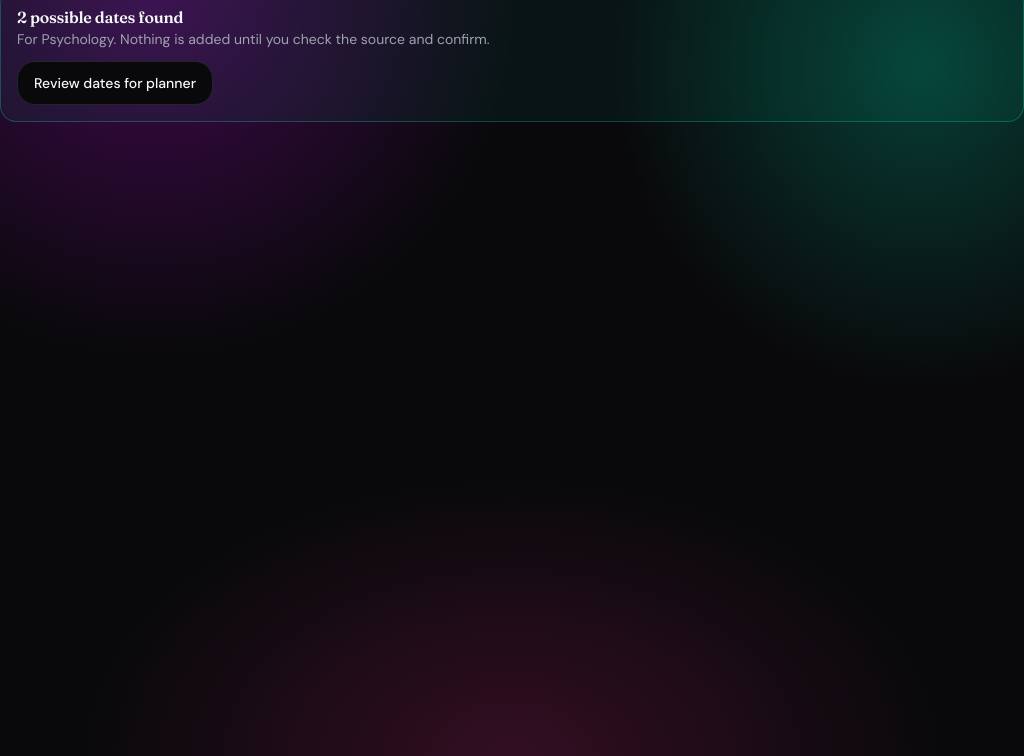
Test: planner confirmation UI › changing a checked date clears confirmation
Click the button "Review dates for planner" at coordinates (115, 83), box [17,61,213,105]
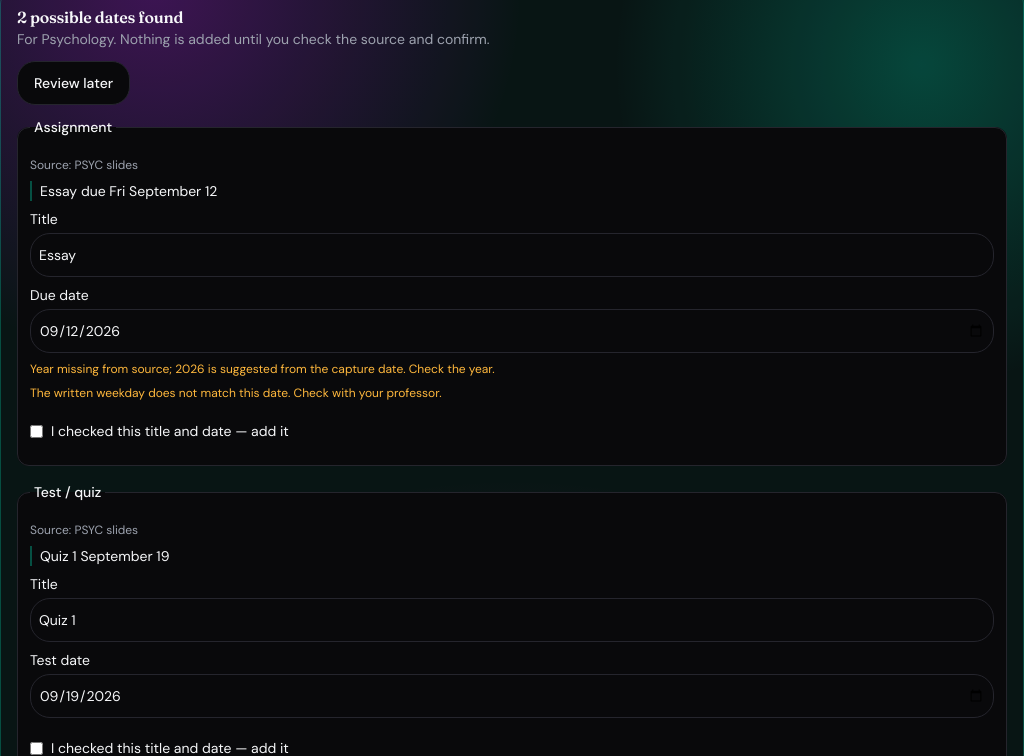
Click the checkbox labelled "I checked this title and date — add it" below "Due date" at coordinates (36, 431), box [30,424,43,438]
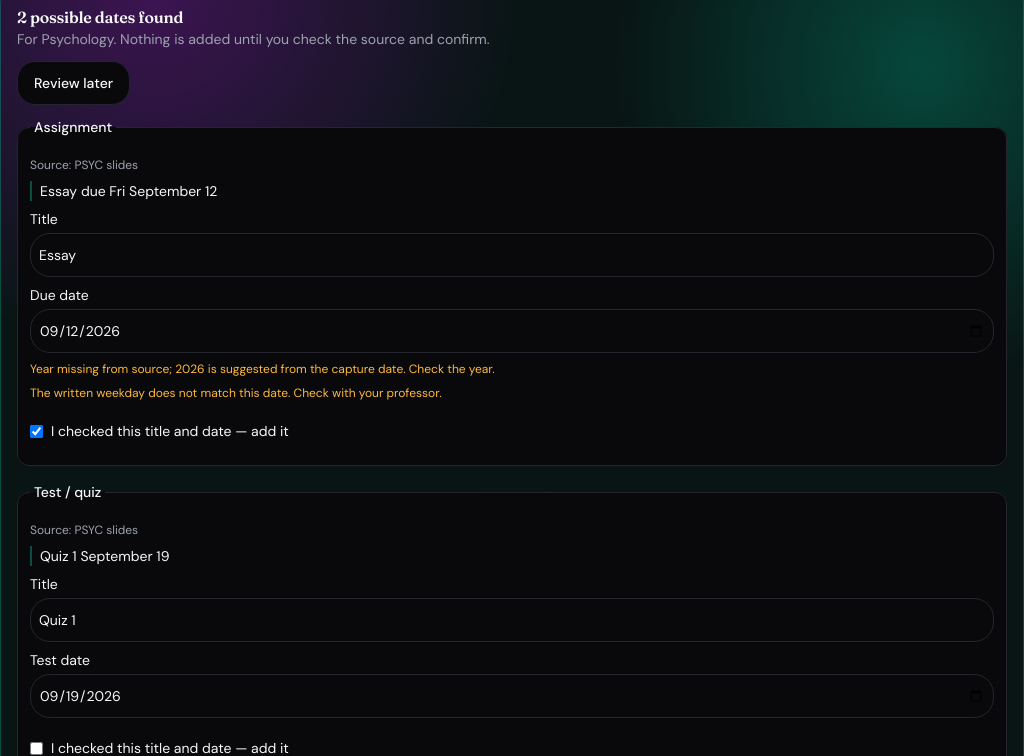
Type "2026-09-14" into the date field named "Date 1" at coordinates (512, 331), box [30,309,994,353]
(page scrolled)
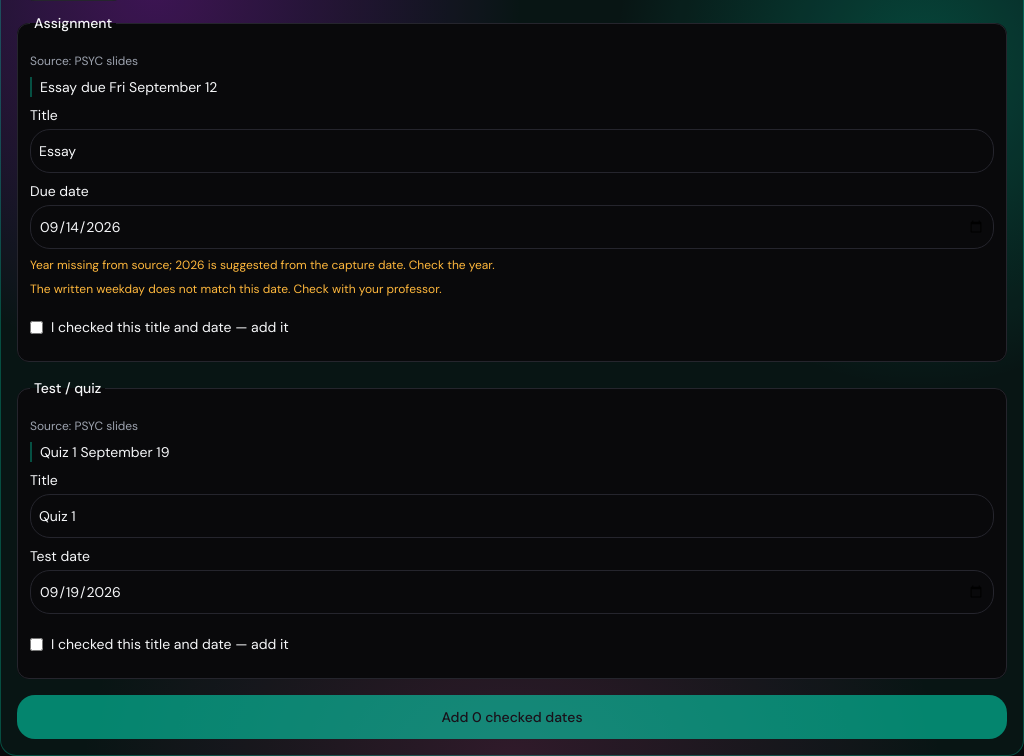
Now the checkbox labelled "I checked this title and date — add it" below "Due date" is not checked, box [30,320,43,334]
Now the button "Add 0 checked dates" is disabled, box [17,695,1007,739]
